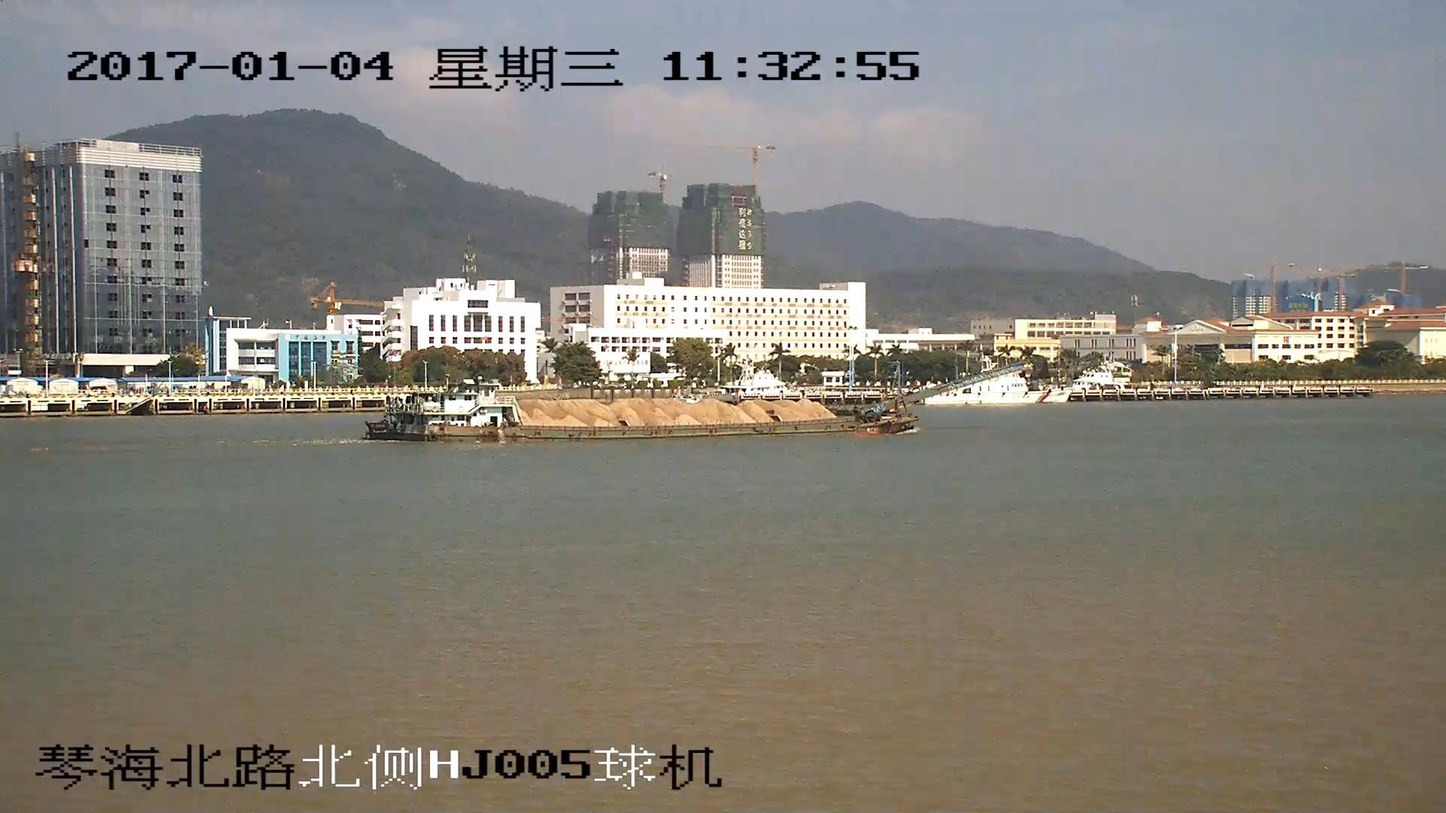ore carrier: (367, 358, 1027, 445)
